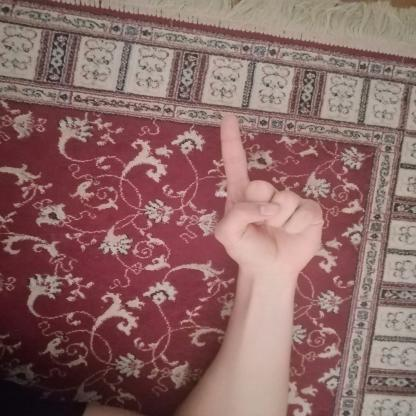BAA: (188, 104, 337, 280)
